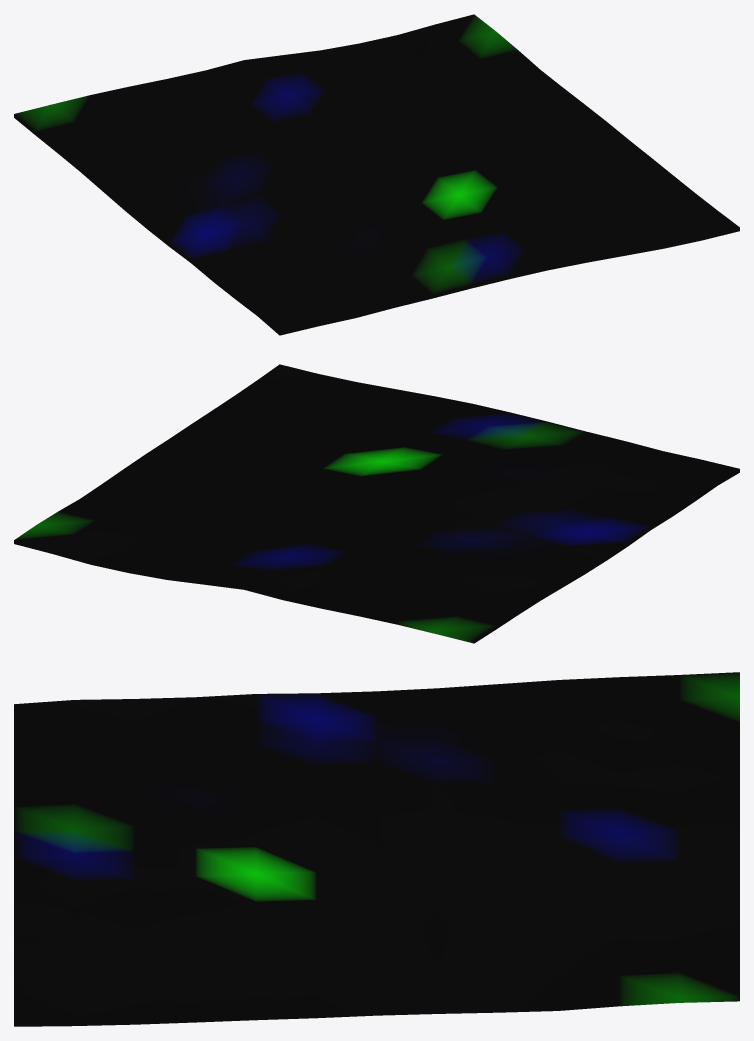
The model's file is coast_20_5.glb.
3 renders of one model, top to bottom at view 1: azimuth 30°, elevation 25°; view 2: azimuth 150°, elevation 25°; view 3: azimuth 270°, elevation 25°, orthographic. The views are drawn at different scales.
Visible parts, largest first — view 1: terrain; view 2: terrain; view 3: terrain.
Boxes of the visible parts, x1=… form: terrain: x1=14, y1=14, x2=739, y2=335; terrain: x1=14, y1=364, x2=739, y2=643; terrain: x1=14, y1=672, x2=739, y2=1026.
Bounding box in the file's own units: 192 × 14.09 × 192.
